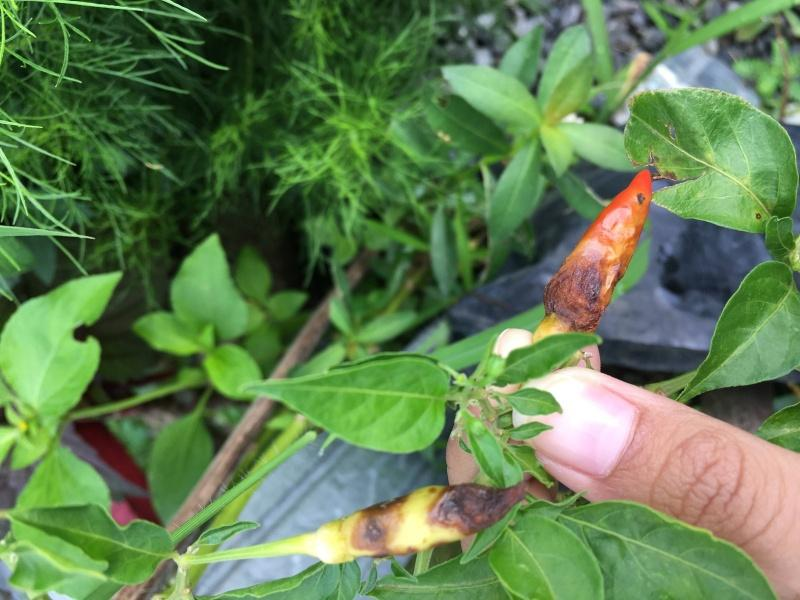antraknosa: (533, 170, 652, 343), (308, 480, 531, 564)
